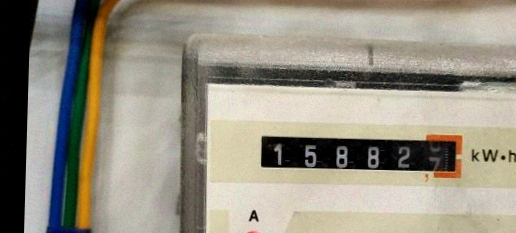1: (271, 140, 284, 166)
2: (395, 143, 412, 169)
5: (302, 142, 317, 168)
7: (426, 153, 442, 171)
8: (333, 142, 350, 168), (365, 143, 381, 169)
screen: (250, 123, 470, 186)
